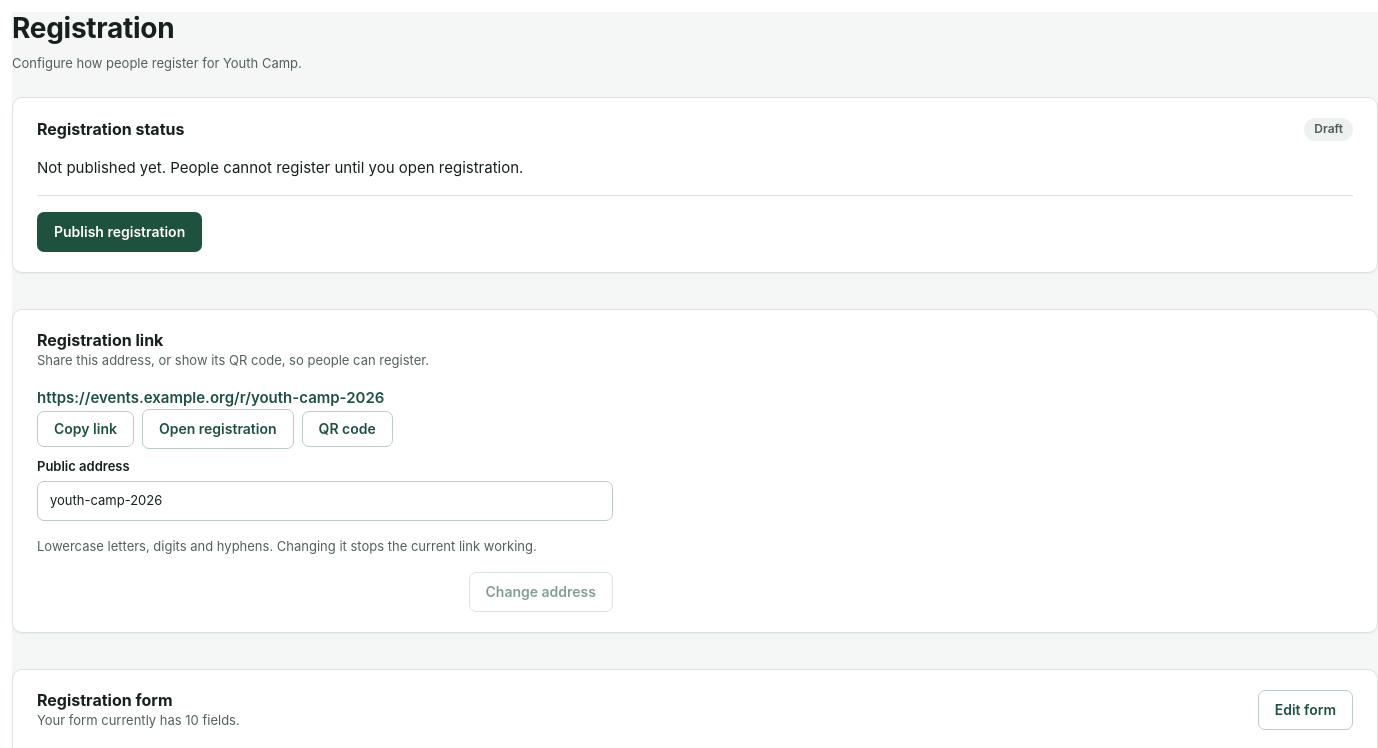
Test: registration page › changes the public address only when asked, and reports the new one
This screenshot has width=1378, height=748.
Replace the text in the field labelled "Public address" with "bigoca-2026" at (325, 501), box [37,481,613,521]
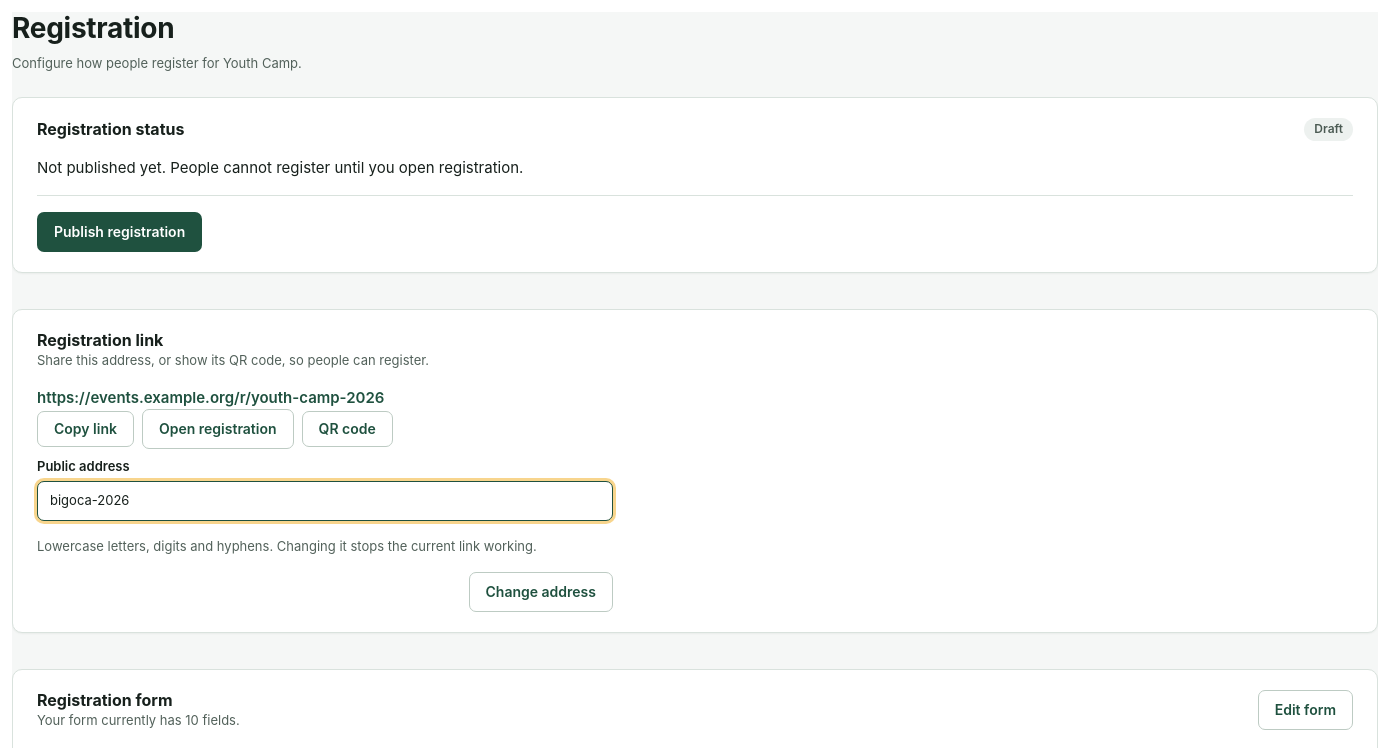
Click the button "Change address".
click(541, 592)  # box [468,572,613,612]
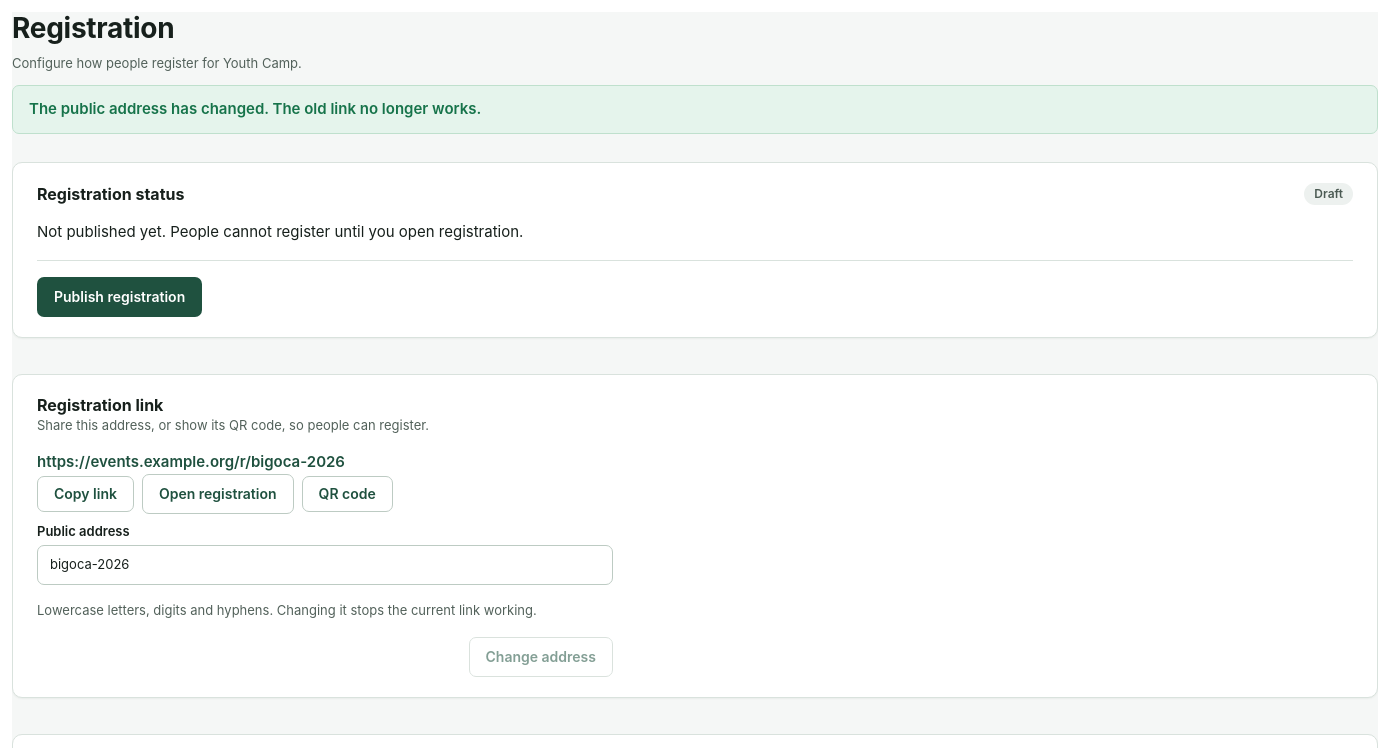
Now the text "The public address has changed. The old link no longer works." is shown, box [12,85,1377,134]
